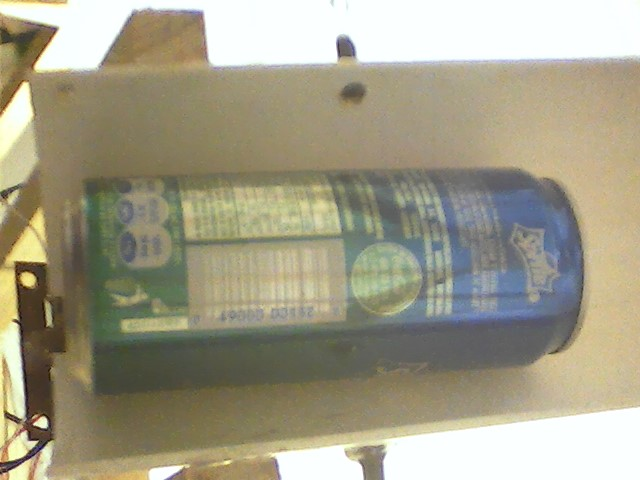lata: (56, 163, 599, 407)
